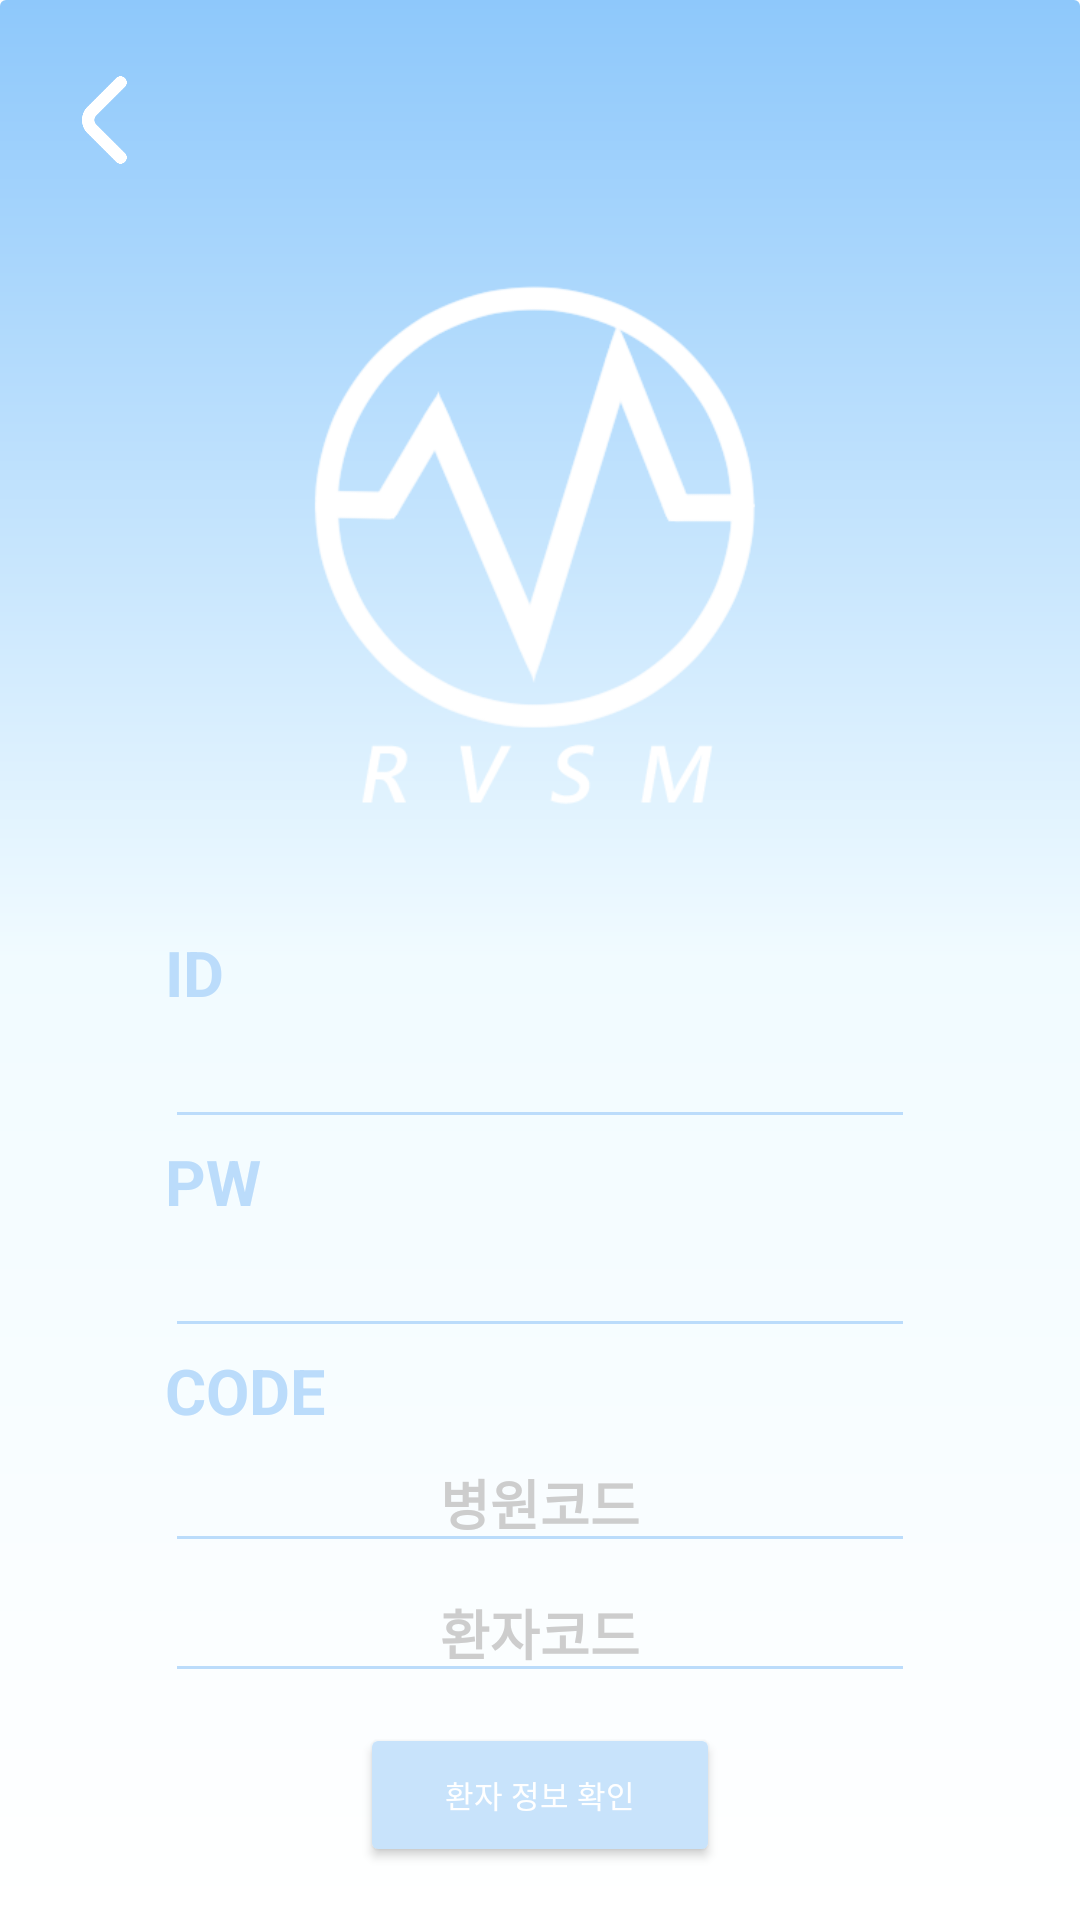

Icons on this 1080×1920 Android screen, each with the point to tap as (x=x, y=y):
back: (x=104, y=120)
